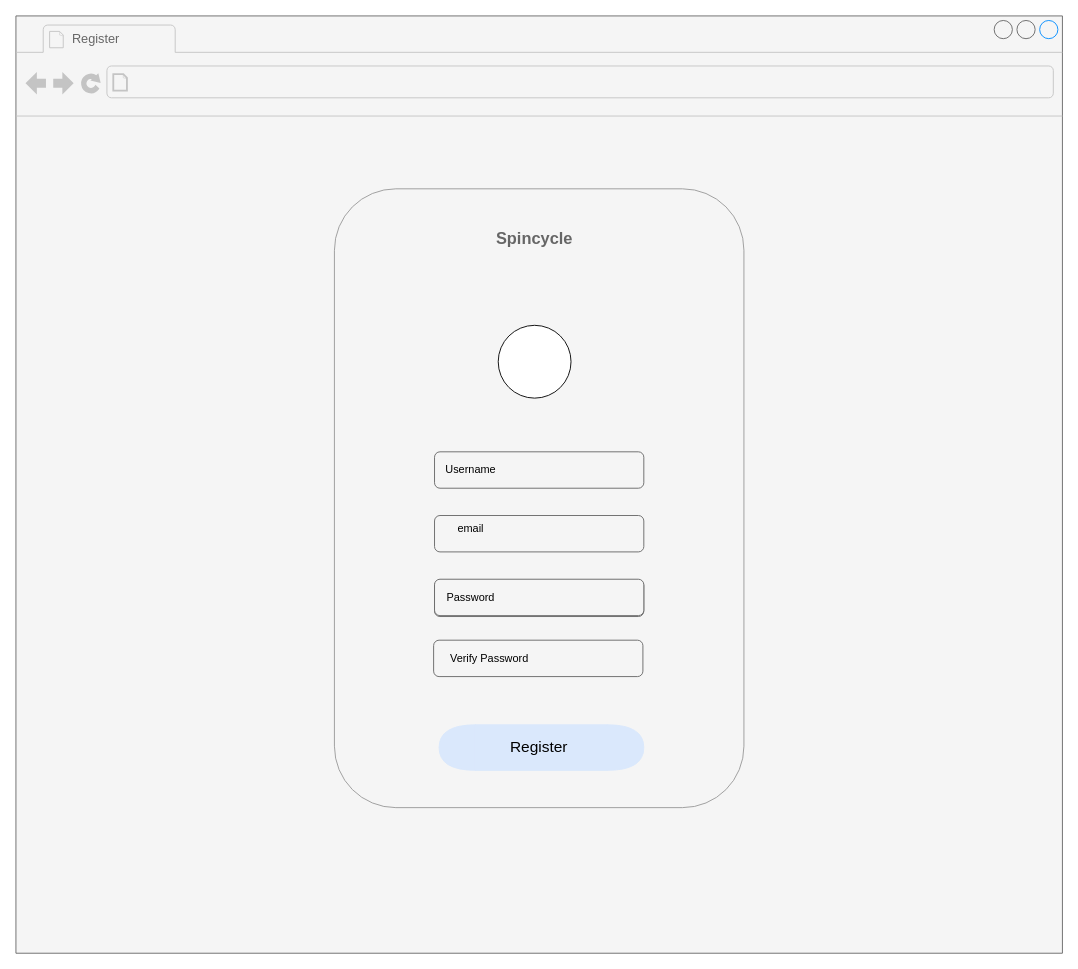
The diagram is 1078 pixels wide and 969 high, and some of its shapes have lost their labels. The shapes that lost their labels are listed below. From the top down, each one's centre as x and y in pixels, then its label:
(247,82): http://localhost/staff/joinus.php
(534,361): profile picture
